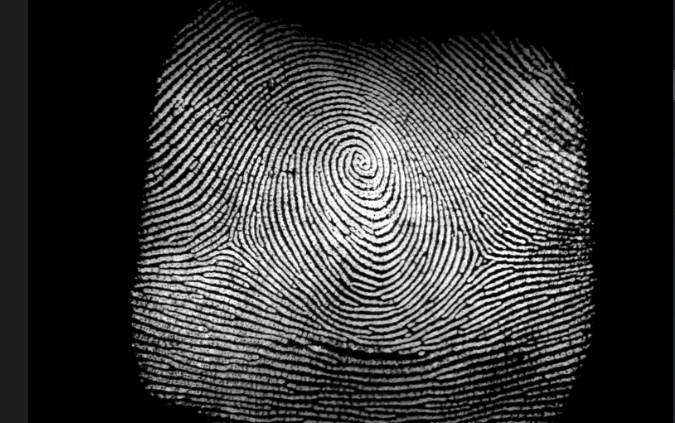nucelo: (341, 141, 379, 183)
verticilo: (462, 239, 504, 274), (215, 225, 243, 265)
